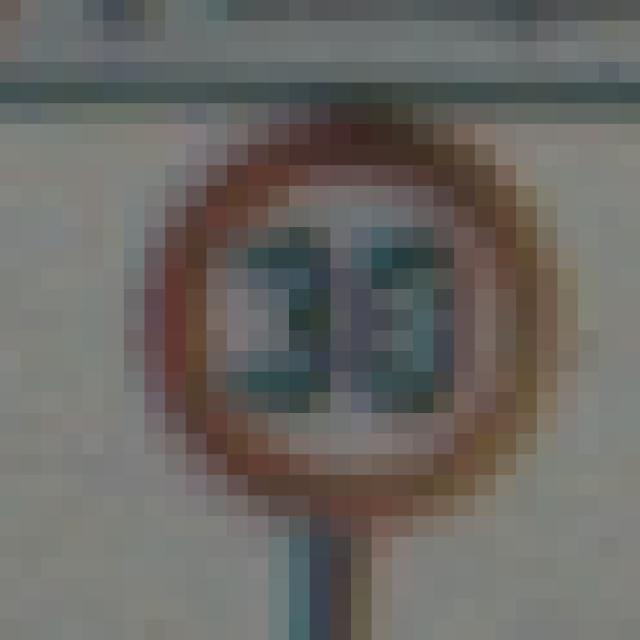Speed Limit -30-: (93, 92, 506, 526)
